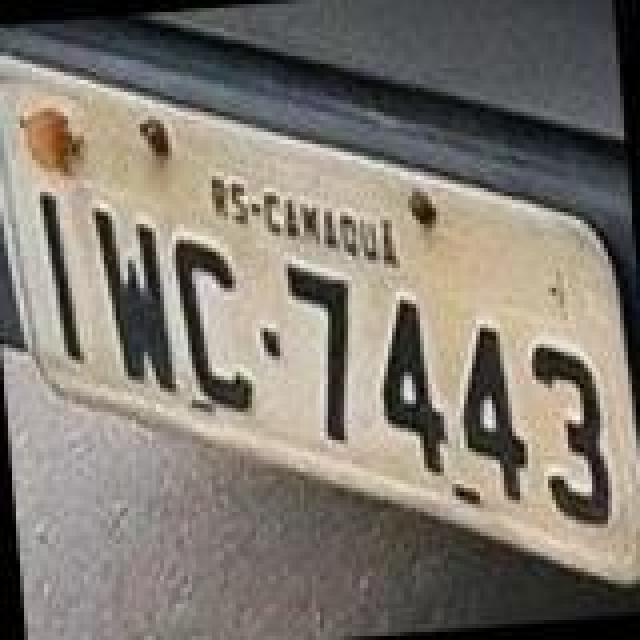1: (40, 190, 88, 370)
3: (528, 340, 616, 532)
4: (456, 322, 536, 510), (374, 288, 450, 480)
7: (284, 256, 364, 448)
C: (172, 234, 260, 422)
W: (92, 206, 180, 402)
